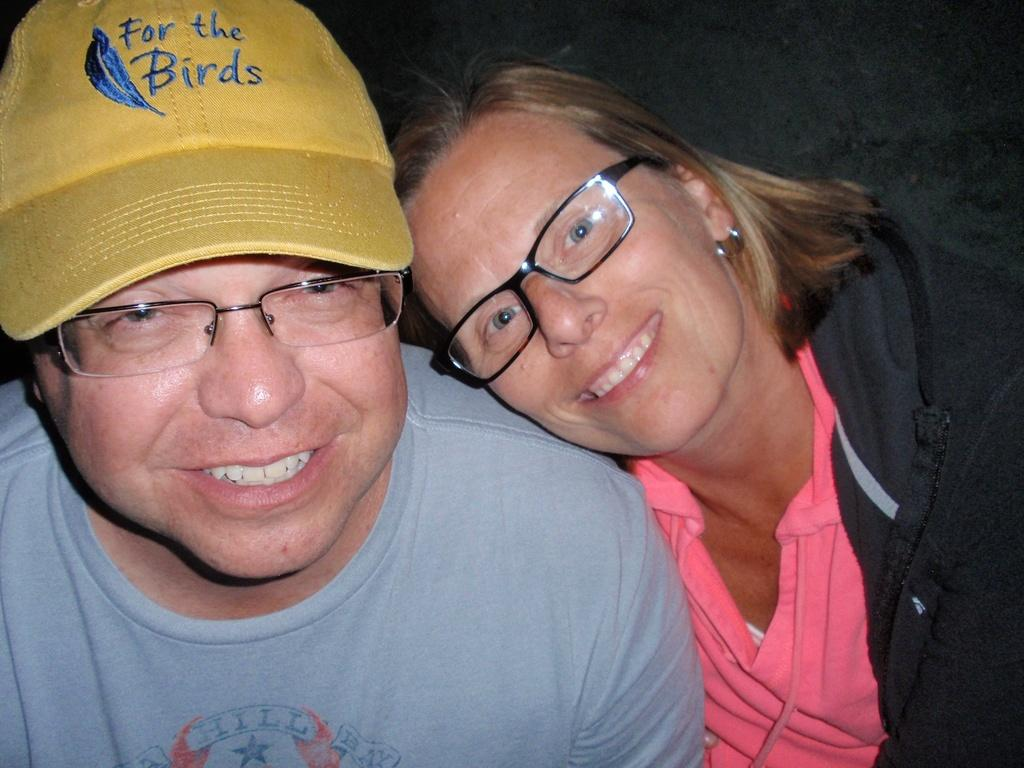Hat: (0, 0, 416, 343)
